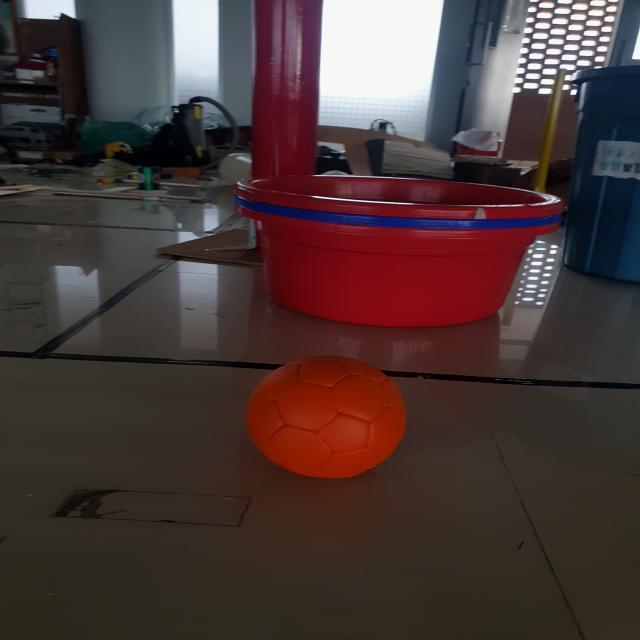bola: (235, 346, 420, 485)
